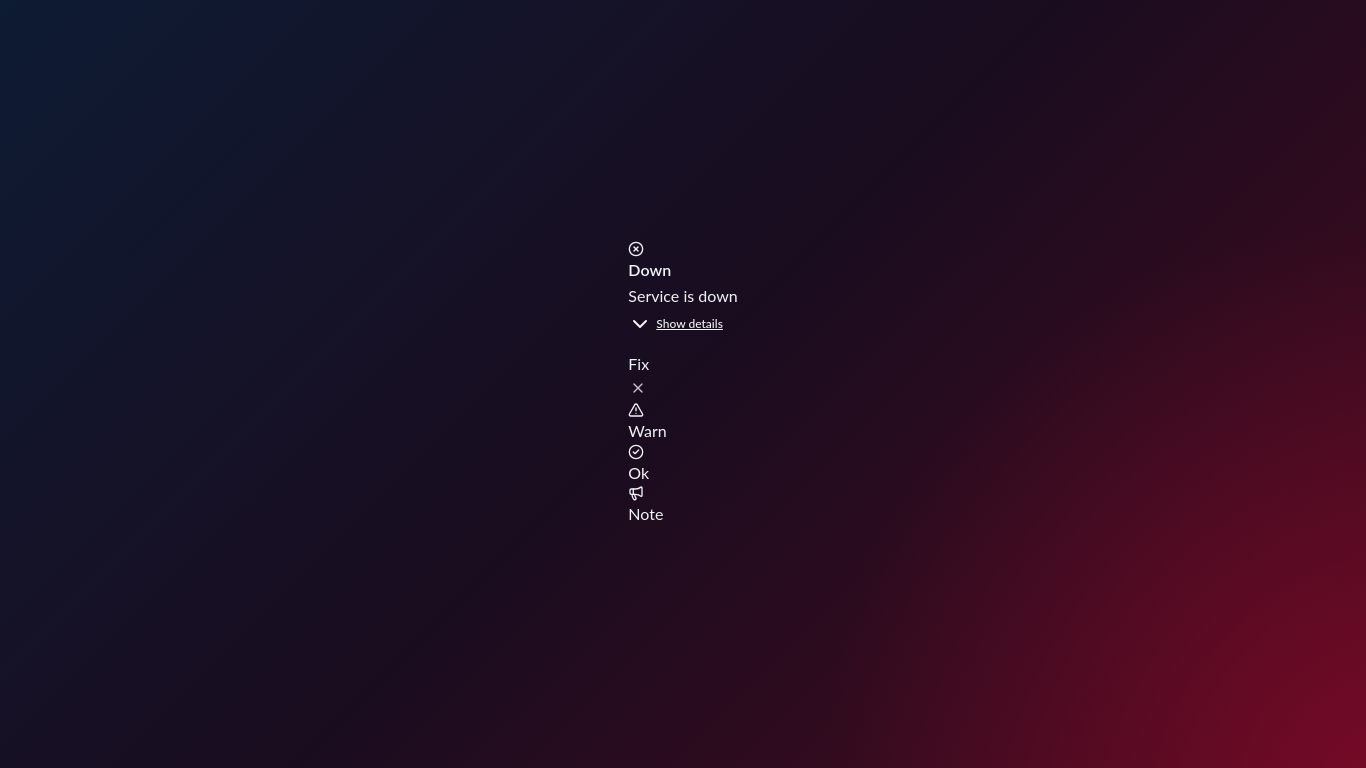
alerts › uses live-region roles by severity and supports title/description/actions/close/detail
Later steps or results of the test are not shown.
Step 1. Click the button "Show details" → (676, 324), box [628,312,723,336]
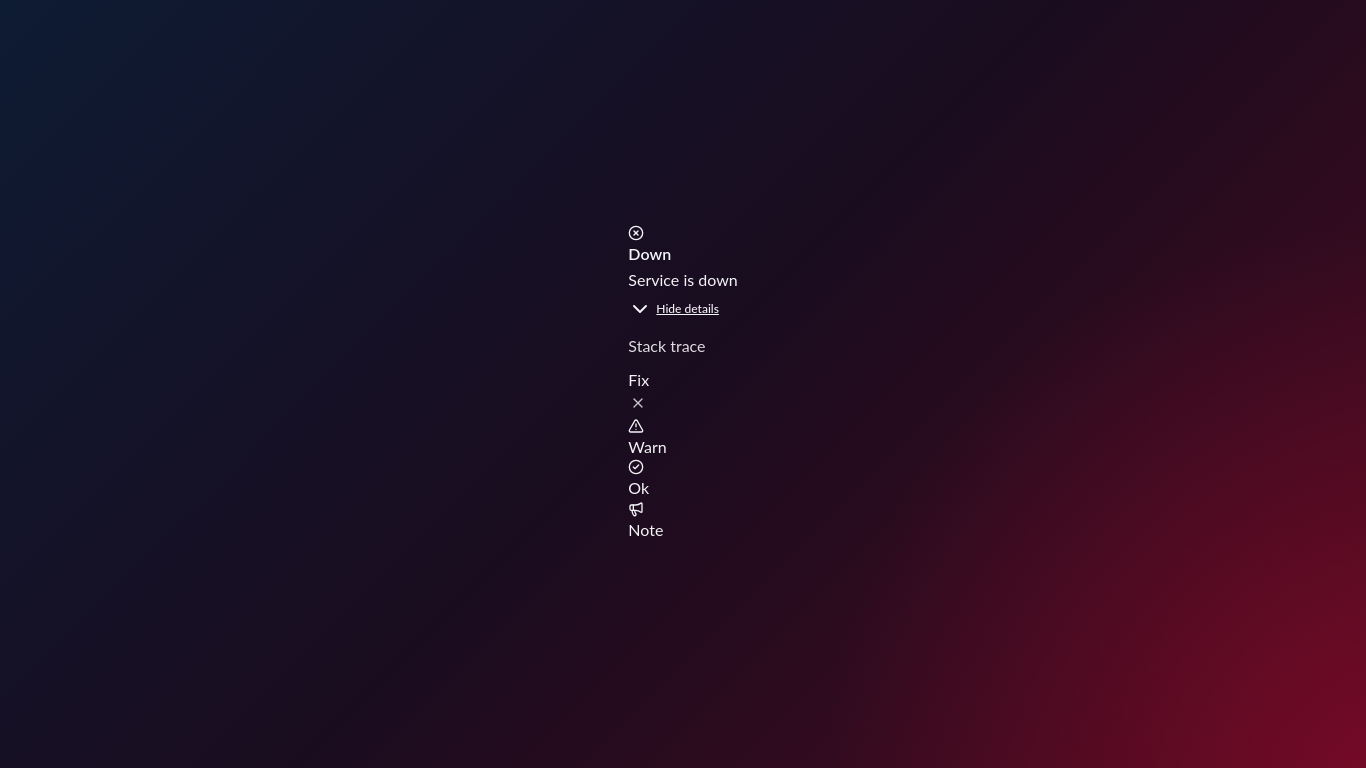
Check: the text "Stack trace" is shown, box [628,336,706,355]
